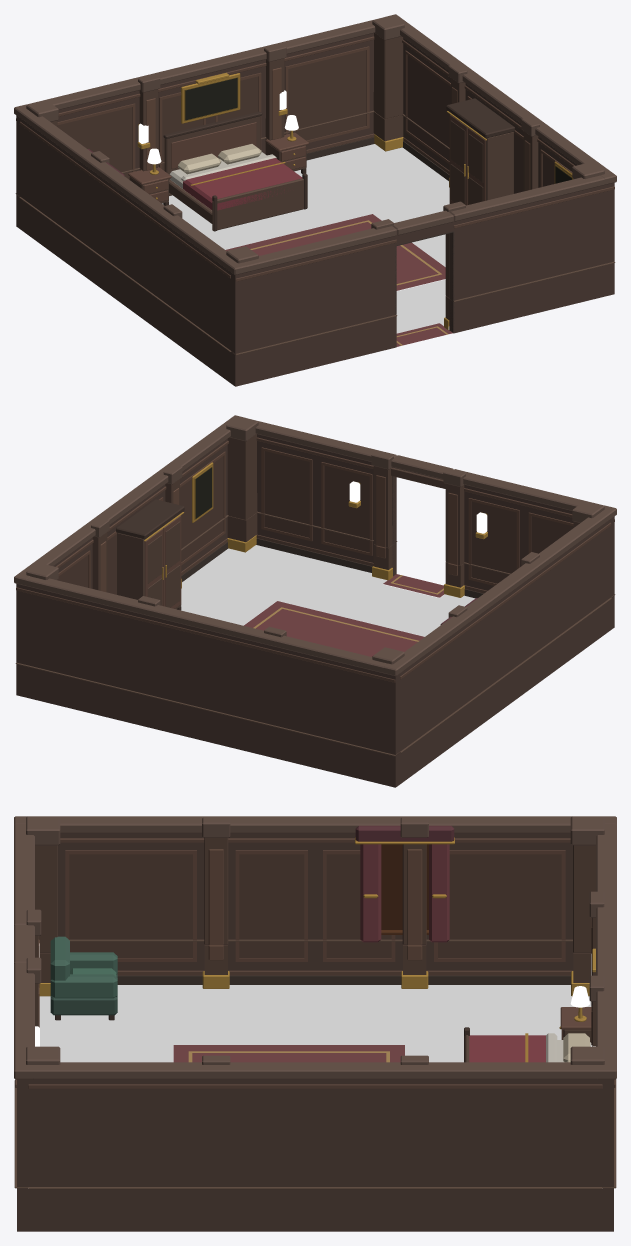
Rendered from suite416.glb.
3 renders of one model, top to bottom at view 1: azimuth 30°, elevation 25°; view 2: azimuth 150°, elevation 25°; view 3: azimuth 270°, elevation 25°, orthographic. The views are drawn at different scales.
Parts seen in each view (by area): view 1: static, W_north_0_up, W_west_0_up, floor, W_south_0_up, W_south_1_up, W_east_0_up; view 2: W_north_0_up, static, W_west_0_up, floor, W_south_1_up, W_south_0_up, W_east_0_up; view 3: W_east_0_up, W_west_0_up, static, floor, W_north_0_up, W_south_0_up, W_south_1_up.
Boxes of the visible parts, x1=… form: static: x1=15, y1=92, x2=615, y2=386; W_north_0_up: x1=14, y1=15, x2=404, y2=196; W_west_0_up: x1=14, y1=104, x2=246, y2=350; floor: x1=162, y1=144, x2=452, y2=346; W_south_0_up: x1=226, y1=210, x2=453, y2=353; W_south_1_up: x1=443, y1=162, x2=616, y2=300; W_east_0_up: x1=385, y1=14, x2=616, y2=193; W_north_0_up: x1=14, y1=563, x2=404, y2=754; static: x1=15, y1=493, x2=615, y2=787; W_west_0_up: x1=384, y1=505, x2=616, y2=751; floor: x1=181, y1=545, x2=475, y2=656; W_south_1_up: x1=226, y1=416, x2=396, y2=547; W_south_0_up: x1=391, y1=455, x2=616, y2=597; W_east_0_up: x1=14, y1=415, x2=245, y2=594; W_east_0_up: x1=14, y1=1055, x2=616, y2=1186; W_west_0_up: x1=14, y1=816, x2=616, y2=945; static: x1=14, y1=936, x2=616, y2=1231; floor: x1=39, y1=985, x2=591, y2=1062; W_north_0_up: x1=570, y1=816, x2=616, y2=1186; W_south_0_up: x1=14, y1=816, x2=60, y2=987; W_south_1_up: x1=14, y1=957, x2=60, y2=1186.
Size of the model in its own units: 8.08 by 2.48 by 8.08.
